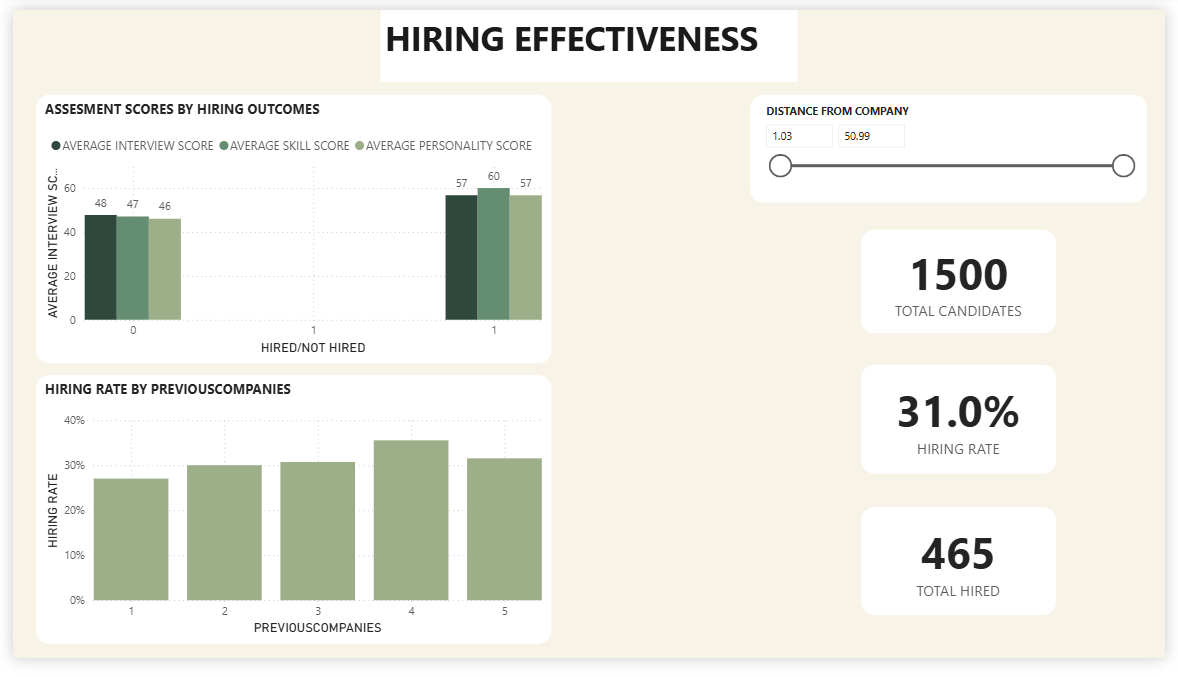

Layout of this report page (visuals, bound fields, positions):
{"tool":"powerbi","page":{"name":"Hiring Effectiveness","canvas":[1280,720],"ordinal":2},"visuals":[{"type":"textbox","box":[408.3,0,463.3,80.3],"z":0},{"type":"clusteredColumnChart","title":"ASSESMENT SCORES BY HIRING OUTCOMES","fields":{"Category":["Recruitment Data.HiringDecision"],"Y":["Recruitment Data.AVERAGE INTERVIEW SCORE","Recruitment Data.AVERAGE SKILL SCORE","Recruitment Data.Average Personality Score"]},"box":[25.7,93.9,573.9,299.8],"z":1000},{"type":"slicer","fields":{"Values":["Recruitment Data.DistanceFromCompany"]},"box":[817.7,93.9,442.1,121.1],"z":2000},{"type":"card","fields":{"Values":["Recruitment Data.HIRING RATE"]},"box":[941.8,393.7,218,122.7],"z":3000},{"type":"card","fields":{"Values":["Recruitment Data.TOTAL HIRED"]},"box":[941.8,551.2,218,121.1],"z":4000},{"type":"card","fields":{"Values":["Recruitment Data.TOTAL CANDIDATES"]},"box":[941.8,243.8,218,116.6],"z":5000},{"type":"clusteredColumnChart","title":"HIRING RATE BY PREVIOUSCOMPANIES","fields":{"Category":["Recruitment Data.PreviousCompanies"],"Y":["Recruitment Data.HIRING RATE"]},"box":[25.7,404.3,573.9,299.8],"z":6000}]}

Visuals, with their boxes in screenshot pixels (x1, y1, x2, y2), scaled from the page's 1280x720 canvas onto the 1178x677 screenshot:
textbox: x1=376, y1=0, x2=802, y2=76
"ASSESMENT SCORES BY HIRING OUTCOMES" clusteredColumnChart: x1=24, y1=88, x2=552, y2=370
slicer - Recruitment Data.DistanceFromCompany: x1=753, y1=88, x2=1159, y2=202
card - Recruitment Data.HIRING RATE: x1=867, y1=370, x2=1067, y2=486
card - Recruitment Data.TOTAL HIRED: x1=867, y1=518, x2=1067, y2=632
card - Recruitment Data.TOTAL CANDIDATES: x1=867, y1=229, x2=1067, y2=339
"HIRING RATE BY PREVIOUSCOMPANIES" clusteredColumnChart: x1=24, y1=380, x2=552, y2=662
